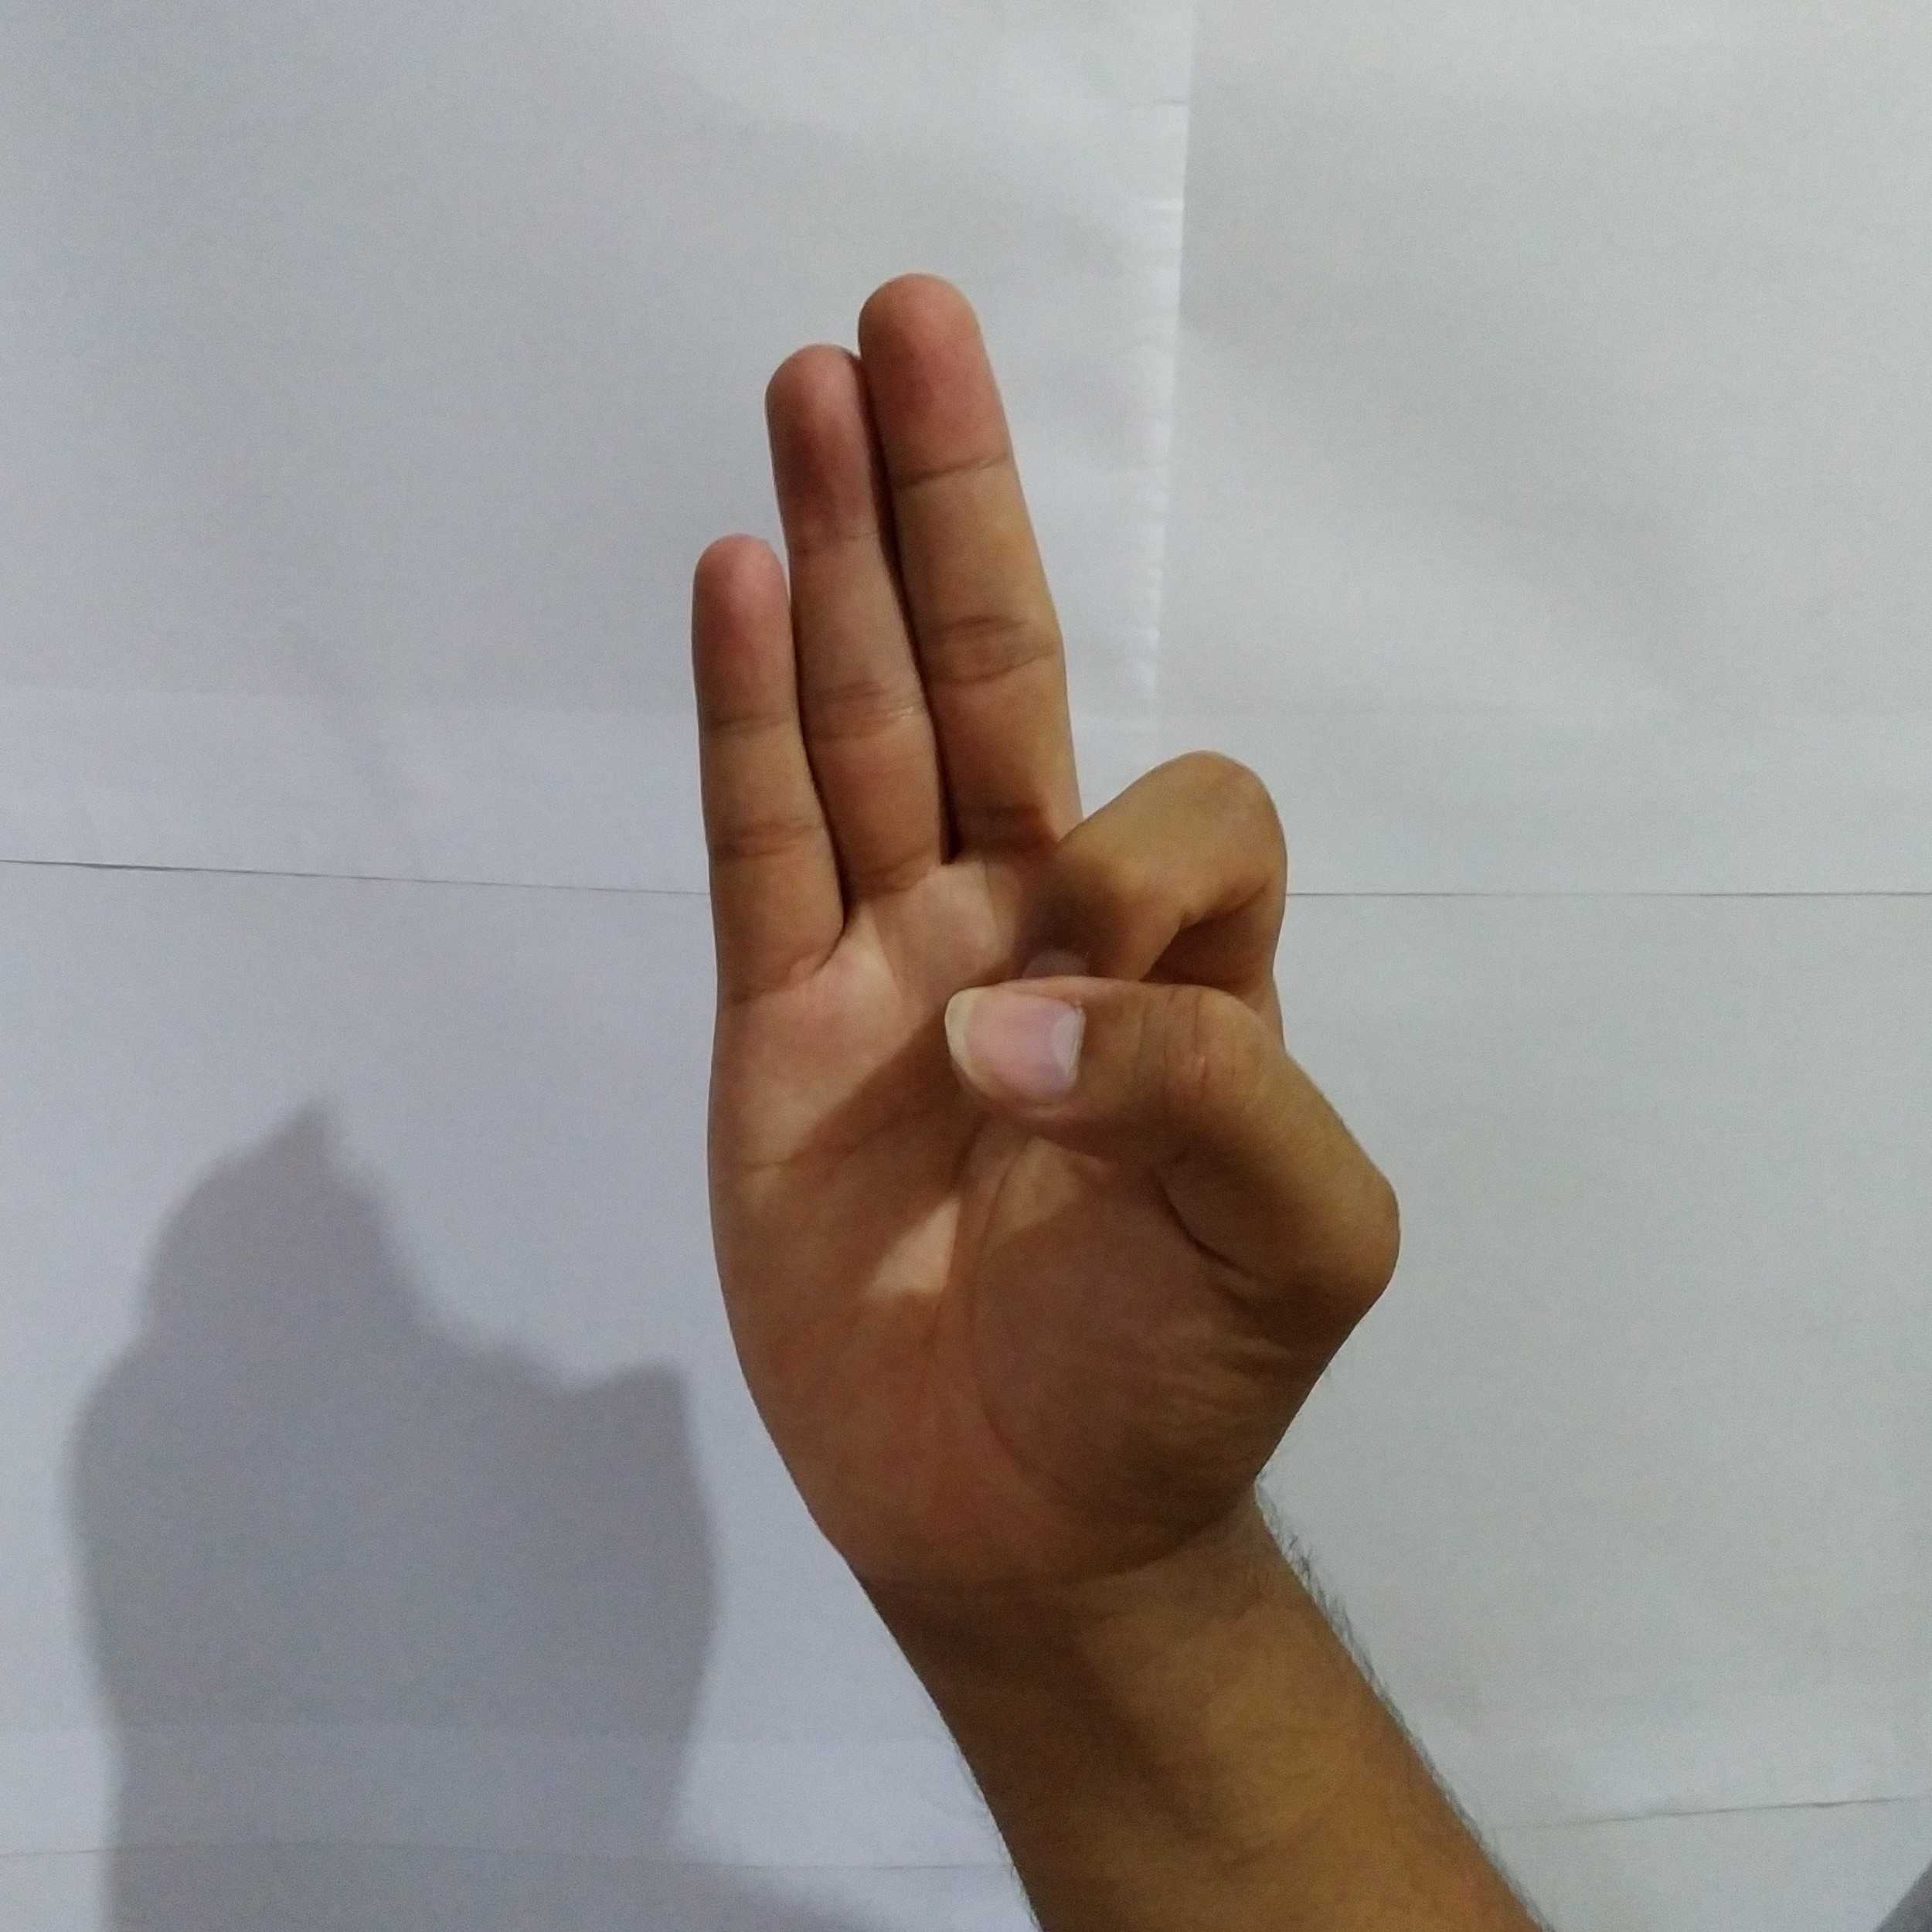F: (667, 257, 1421, 1504)
